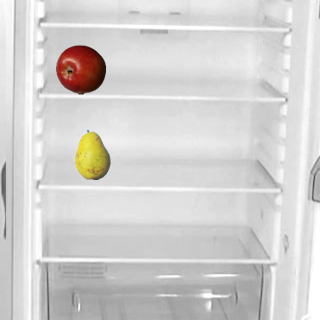Apple Braeburn: (55, 44, 105, 94)
Pear Monster: (67, 129, 117, 179)
